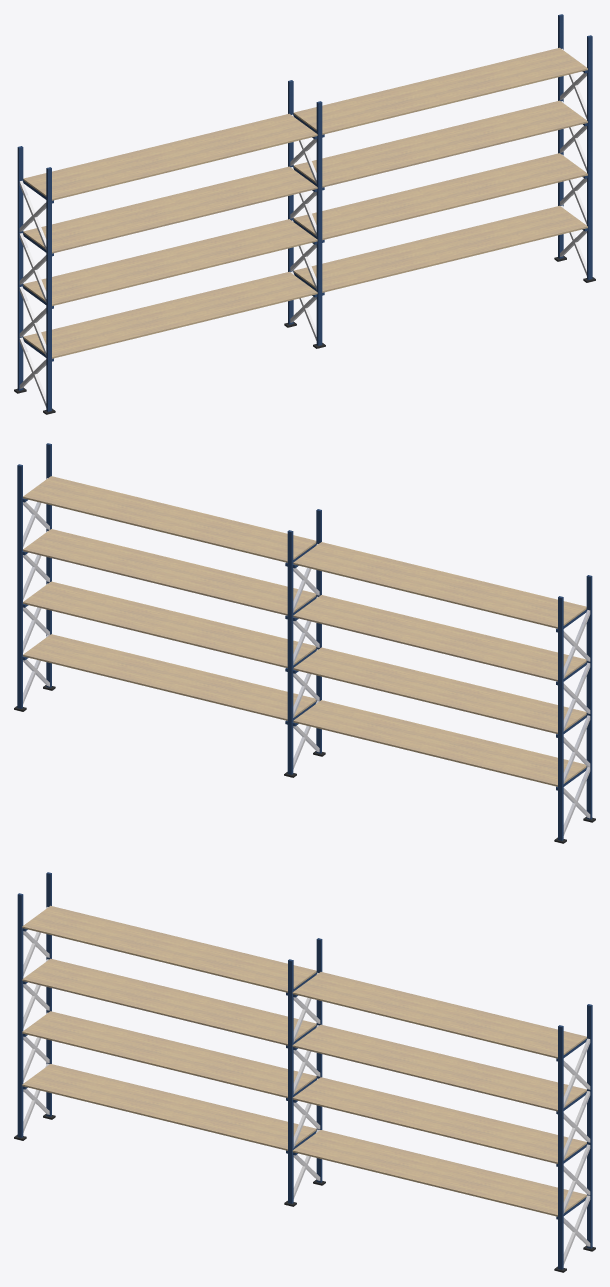
File: DBShenkShelf.fbx
3 renders of one model, top to bottom at view 1: azimuth 30°, elevation 25°; view 2: azimuth 150°, elevation 25°; view 3: azimuth 330°, elevation 25°, orthographic.
Visible parts, largest first — view 1: BigShelves02; view 2: BigShelves02; view 3: BigShelves02.
Part boxes in pixels (x1,y1,x2,y2): BigShelves02: [14, 14, 595, 414]; BigShelves02: [14, 443, 595, 843]; BigShelves02: [14, 872, 595, 1272].
Size of the model in its own units: 1775 by 754 by 181.
4 materials, 4 textured.
